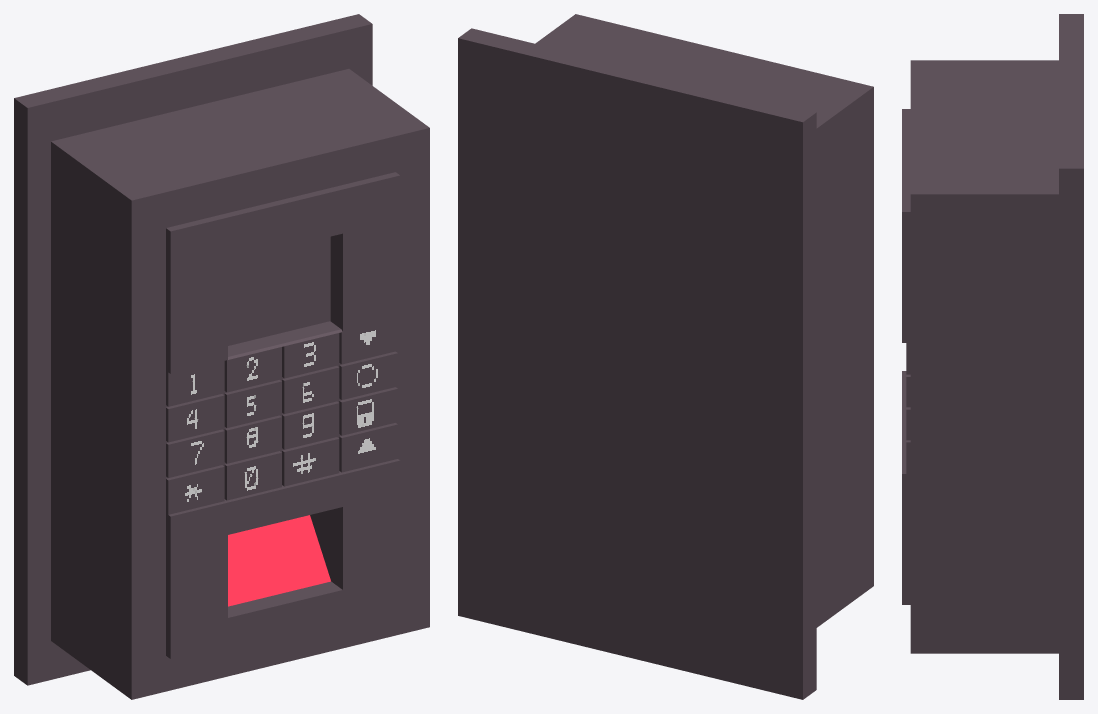
Rendered from FingerPrint.glb.
3 views of the same model, side by side, from view 1: azimuth 30°, elevation 25°; view 2: azimuth 150°, elevation 25°; view 3: azimuth 270°, elevation 25° (orthographic). The views are drawn at different scales.
Visible parts, largest first — view 1: FingerprintScanner; view 2: FingerprintScanner; view 3: FingerprintScanner.
Boxes of the visible parts, x1,y1,x2,y2 form: FingerprintScanner: (14, 14, 429, 699); FingerprintScanner: (458, 14, 873, 699); FingerprintScanner: (902, 14, 1083, 699).
Bounding box in the file's own units: 0.4325 × 0.692 × 0.2148.
Materials: 3 (1 with a texture image).
